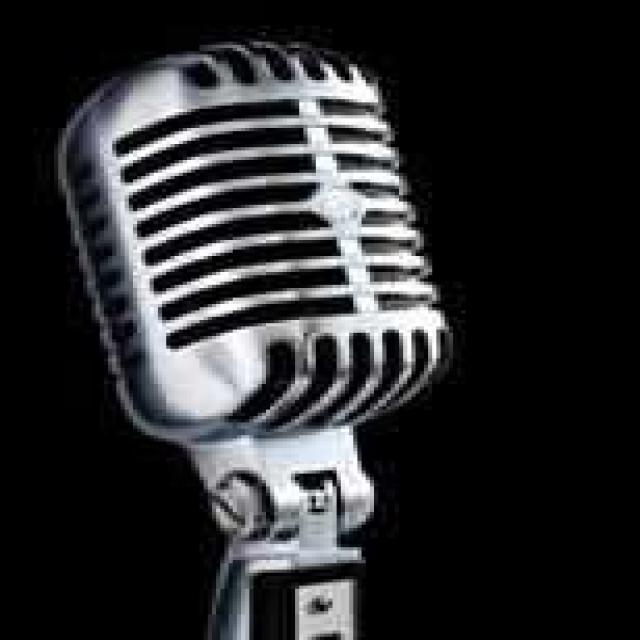microphone: (54, 41, 444, 448)
